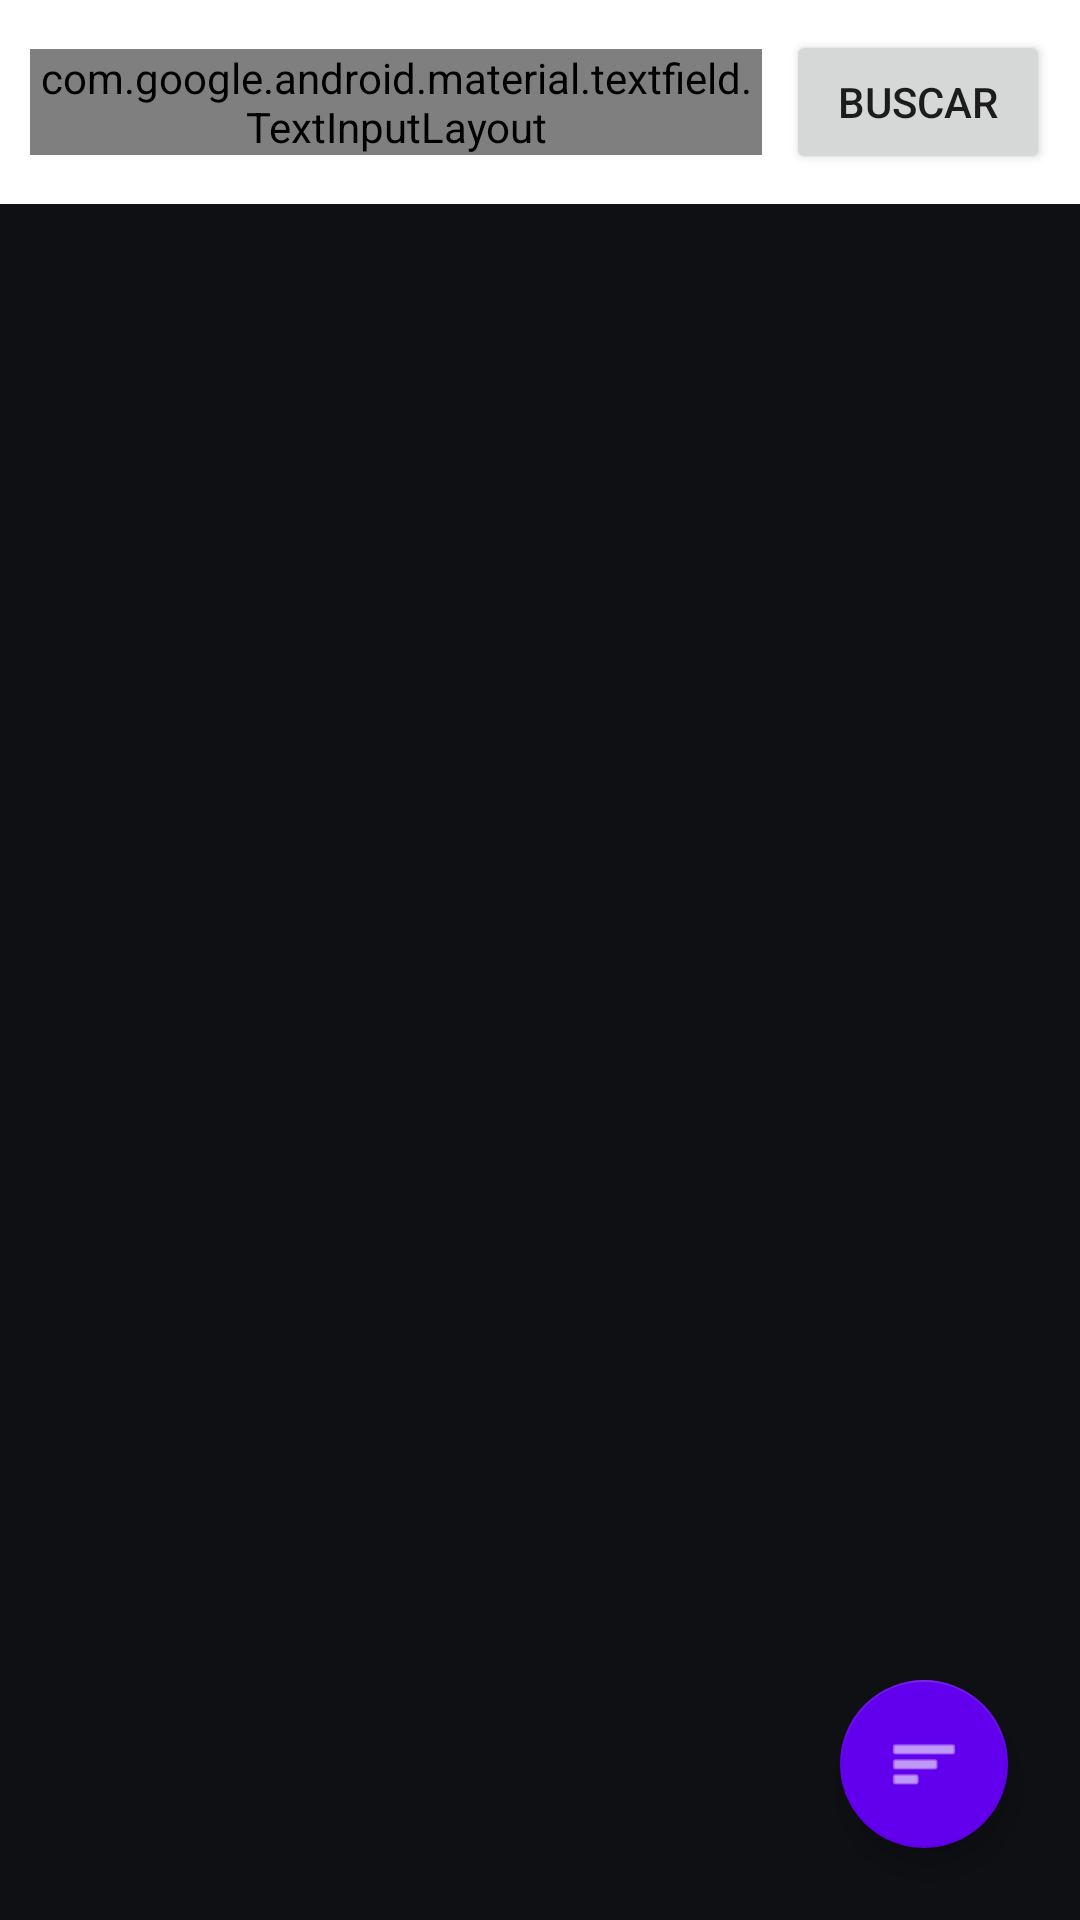

Icons on this 1080 × 1920 Android screen, each with its box as (x1, y1, x2, y2):
Filtros: (840, 1680, 1008, 1848)
